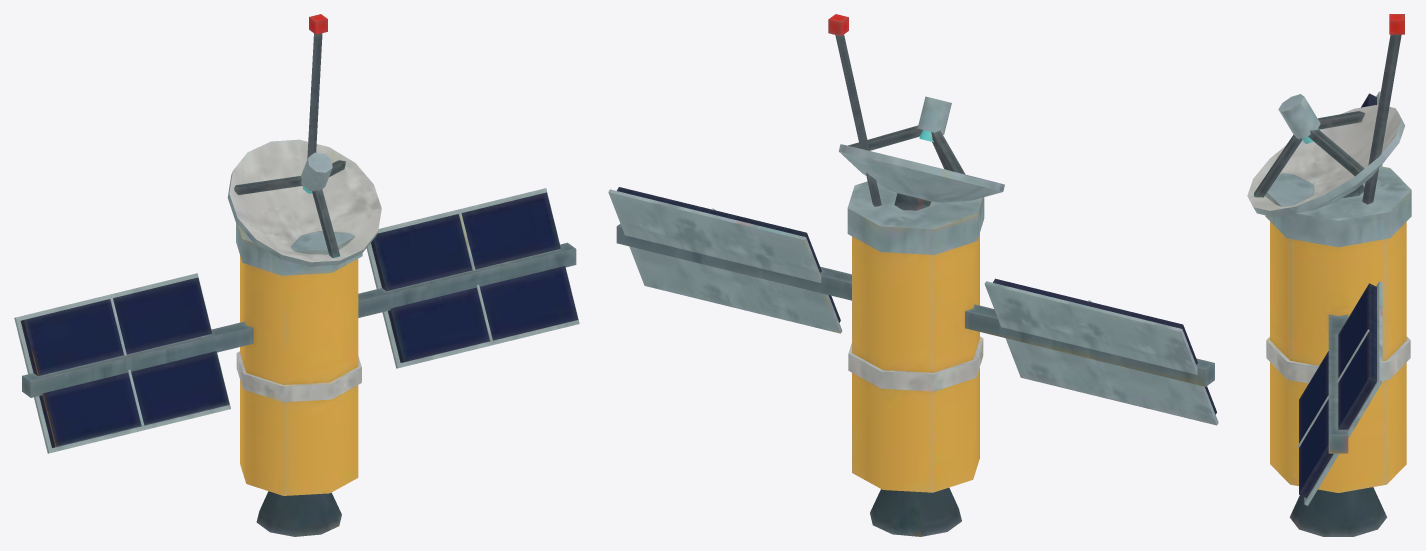
The model's file is probe.glb.
3 views of the same model, side by side, from view 1: azimuth 30°, elevation 25°; view 2: azimuth 150°, elevation 25°; view 3: azimuth 270°, elevation 25° (orthographic). The views are drawn at different scales.
Parts seen in each view (by area): view 1: te_res_probe; view 2: te_res_probe; view 3: te_res_probe.
Boxes of the visible parts, bbox=[...] form: te_res_probe: bbox=[14, 14, 579, 536]; te_res_probe: bbox=[608, 14, 1218, 536]; te_res_probe: bbox=[1247, 14, 1411, 536].
Size of the model in its own units: 0.72 by 0.593 by 0.1684.
1 material, 1 textured.
